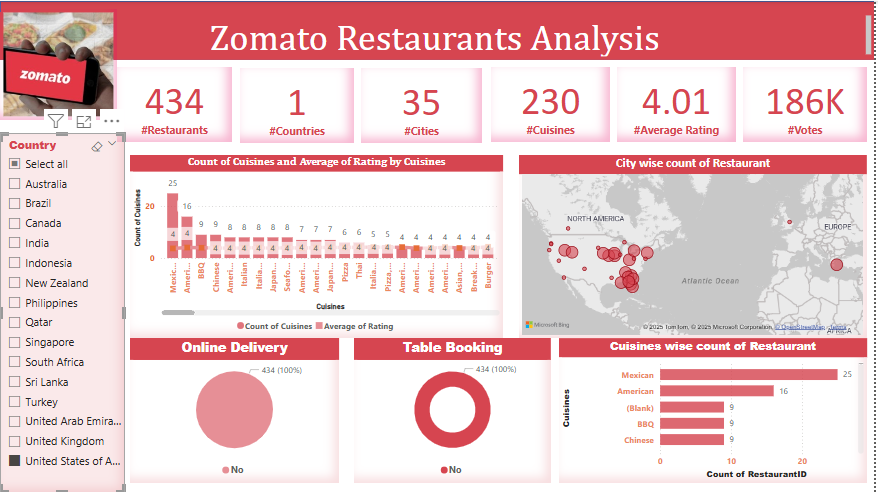

The page's visual inventory and layout, read from the dashboard file:
{"tool":"powerbi","page":{"name":"Page 1","canvas":[1280,720],"ordinal":0},"visuals":[{"type":"shape","box":[0,0,1280.5,86.3],"z":0},{"type":"textbox","box":[150,256,300,300],"z":1000},{"type":"textbox","box":[0,16.1,1280.5,70.2],"z":2000},{"type":"image","box":[0,11.7,171.2,162.4],"z":3000},{"type":"card","fields":{"Values":["CountNonNull(Resturants.RestaurantID)"]},"box":[171.2,96.6,168.3,109.8],"z":4000},{"type":"card","fields":{"Values":["Count(Resturants.City)"]},"box":[528.3,98,177.1,109.8],"z":5000},{"type":"card","fields":{"Values":["Count(Resturants.Cuisines)"]},"box":[718.5,96.6,174.1,109.8],"z":6000},{"type":"card","fields":{"Values":["Avg(Resturants.Rating)"]},"box":[902.9,96.6,174.1,109.8],"z":7000},{"type":"card","fields":{"Values":["Sum(Resturants.Votes)"]},"box":[1087.3,96.6,181.5,109.8],"z":8000},{"type":"slicer","fields":{"Values":["Country.country name"]},"box":[0,193.2,182.9,526.8],"z":9000},{"type":"lineStackedColumnComboChart","fields":{"Category":["Resturants.Cuisines"],"Y":["CountNonNull(Resturants.Cuisines)"],"Y2":["Avg(Resturants.Rating)"]},"box":[190.2,225.4,545.9,267.8],"z":10000},{"type":"barChart","title":"Cuisines wise count of Restaurant","fields":{"Y":["CountNonNull(Resturants.RestaurantID)"],"Category":["Resturants.Cuisines"]},"box":[818,493.2,450.7,212.2],"z":11000},{"type":"map","title":"City wise count of Restaurant","fields":{"Category":["Resturants.City"],"Size":["CountNonNull(Resturants.RestaurantID)"]},"box":[759.5,225.4,509.3,267.8],"z":12000},{"type":"pieChart","title":"Online Delivery","fields":{"Category":["Resturants.Has_Online_delivery"],"Y":["CountNonNull(Resturants.RestaurantID)"]},"box":[190.2,493.2,305.9,212.2],"z":13000},{"type":"donutChart","title":"Table Booking","fields":{"Category":["Resturants.Has_Table_booking"],"Y":["CountNonNull(Resturants.RestaurantID)"]},"box":[518,493.2,288.3,212.2],"z":14000},{"type":"card","fields":{"Values":["Count(Country.country name)"]},"box":[351.2,98,166.8,109.8],"z":15000}]}

Visuals, with their boxes on the page's 1280x720 design canvas (x1, y1, x2, y2). These are canvas units, not pixel positions in the 878x492 screenshot, which may show the page scaled, cropped or inside an application window:
shape: rect(0, 0, 1280, 86)
textbox: rect(150, 256, 450, 556)
textbox: rect(0, 16, 1280, 86)
image: rect(0, 12, 171, 174)
card - CountNonNull(Resturants.RestaurantID): rect(171, 97, 340, 206)
card - Count(Resturants.City): rect(528, 98, 705, 208)
card - Count(Resturants.Cuisines): rect(718, 97, 893, 206)
card - Avg(Resturants.Rating): rect(903, 97, 1077, 206)
card - Sum(Resturants.Votes): rect(1087, 97, 1269, 206)
slicer - Country.country name: rect(0, 193, 183, 720)
lineStackedColumnComboChart - Resturants.Cuisines x CountNonNull(Resturants.Cuisines): rect(190, 225, 736, 493)
"Cuisines wise count of Restaurant" barChart: rect(818, 493, 1269, 705)
"City wise count of Restaurant" map: rect(760, 225, 1269, 493)
"Online Delivery" pieChart: rect(190, 493, 496, 705)
"Table Booking" donutChart: rect(518, 493, 806, 705)
card - Count(Country.country name): rect(351, 98, 518, 208)
